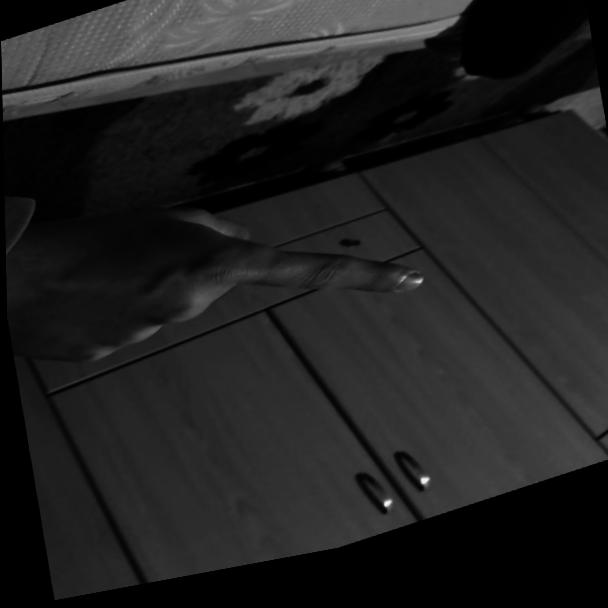one: (3, 108, 458, 418)
